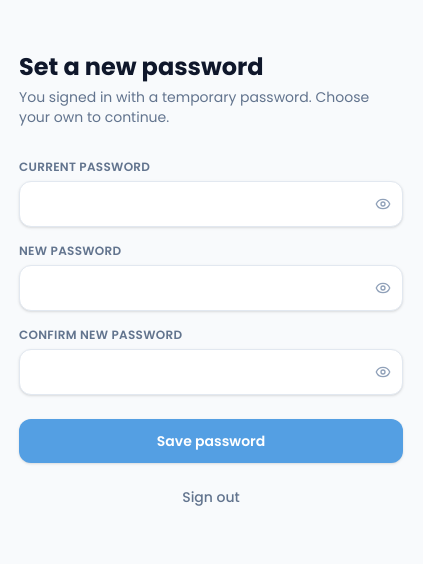
Test: ChangePasswordForm › shows translated action errors
The image size is (423, 564).
Type "temporary-pass" into the password field labelled "Current password" at (211, 204), box [19,181,403,227]
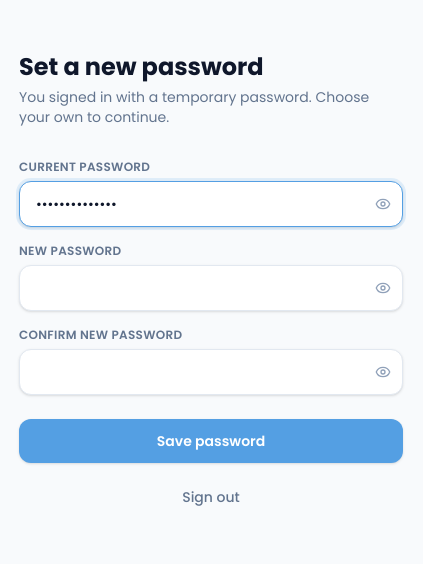
Type "a-long-password-1" into the password field labelled "New password" at (211, 288), box [19,265,403,311]
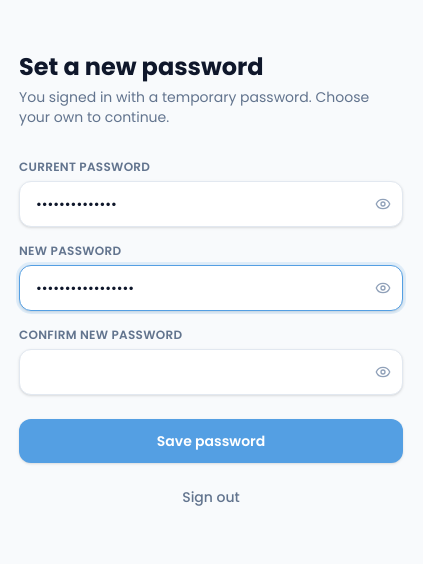
Type "a-long-password-1" into the password field labelled "Confirm new password" at (211, 372), box [19,349,403,395]
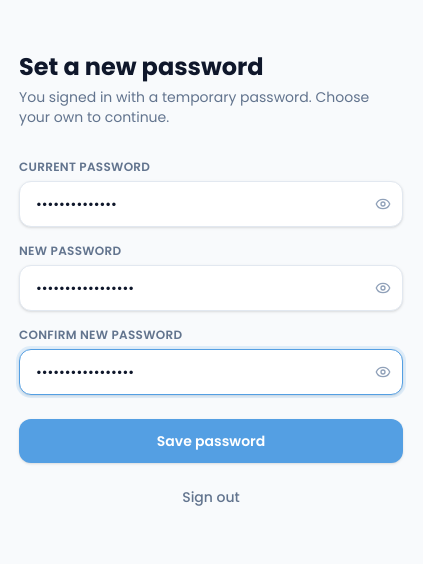
Click the button "Save password" at (211, 441), box [19,419,403,463]
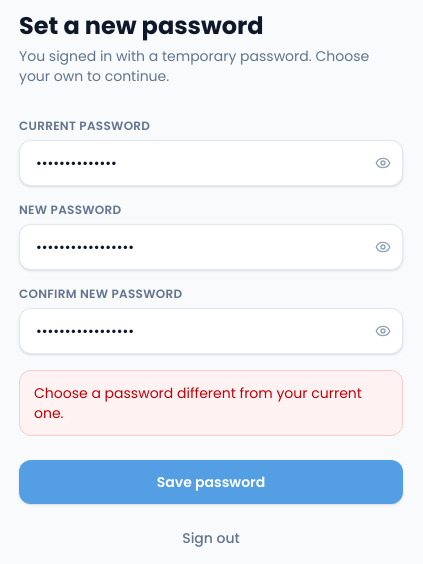
Now the text "Choose a password different from your current one." is shown, box [19,370,403,436]
